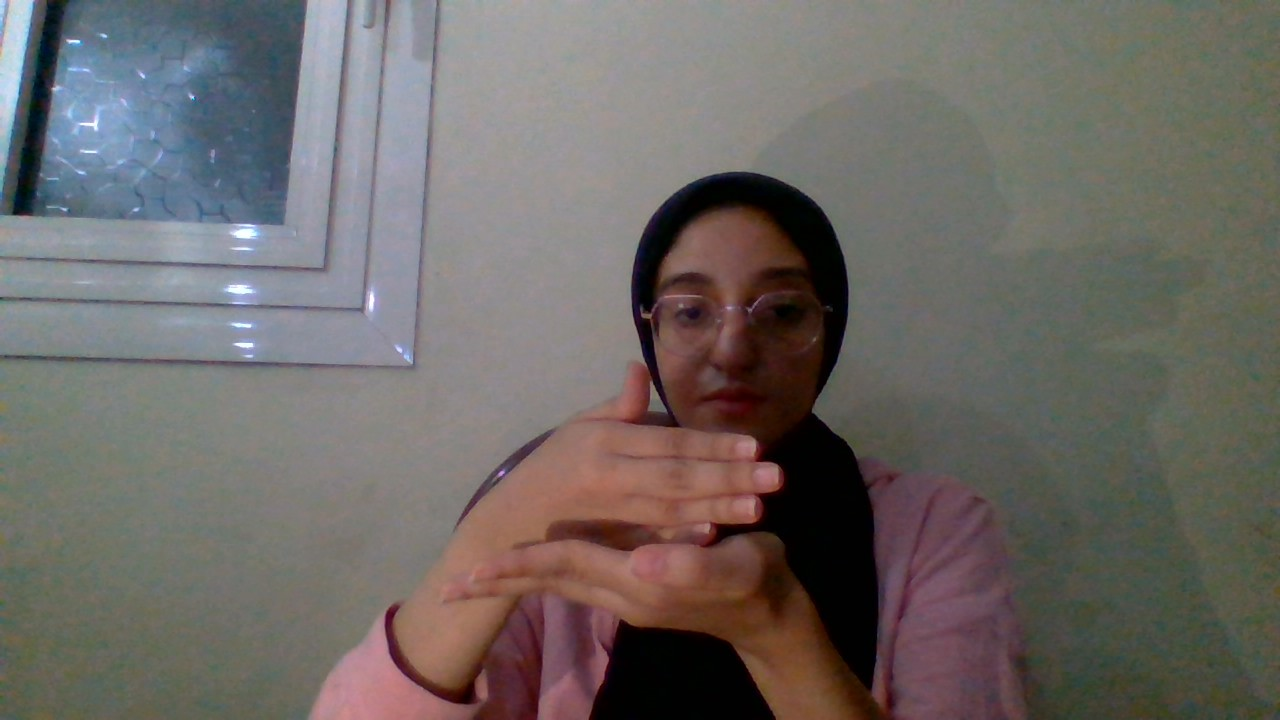stop: (298, 333, 856, 655)
